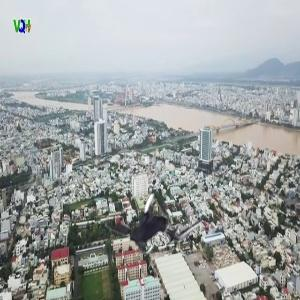drone: (106, 183, 195, 272)
